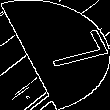L_W: (13, 32, 97, 78)
